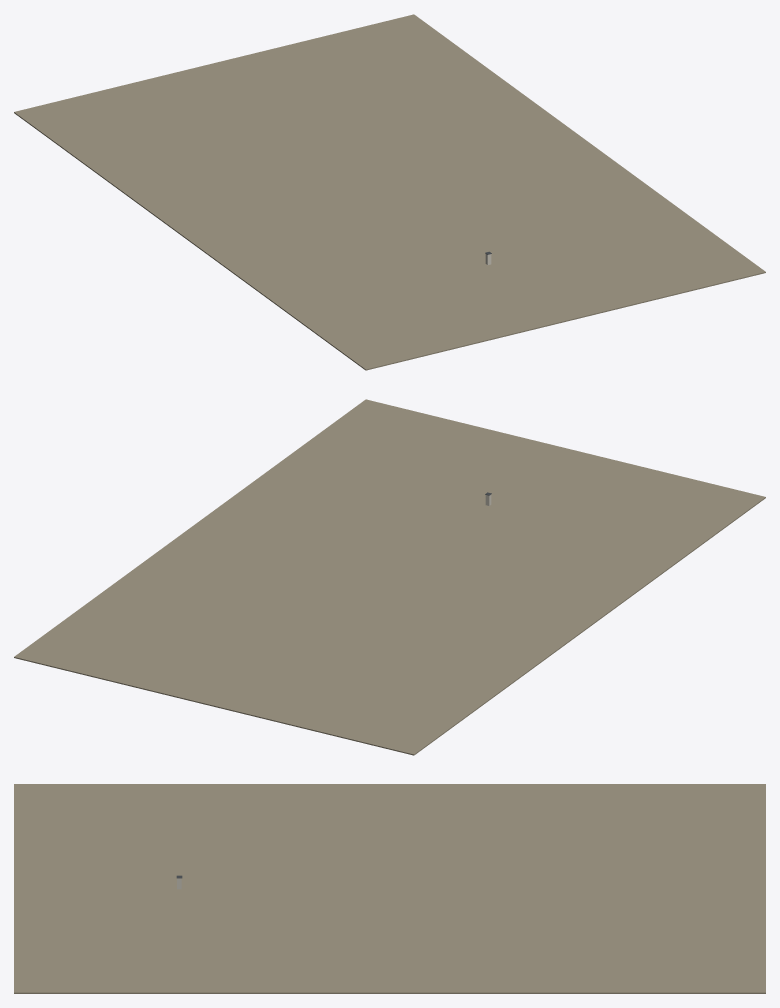
File: fort_dearborn_parade__parade_1816.glb
3 renders of one model, top to bottom at view 1: azimuth 30°, elevation 25°; view 2: azimuth 150°, elevation 25°; view 3: azimuth 270°, elevation 25°, orthographic. The views are drawn at different scales.
Parts seen in each view (by area): view 1: fort_dearborn_parade__parade_1816; view 2: fort_dearborn_parade__parade_1816; view 3: fort_dearborn_parade__parade_1816.
Boxes of the visible parts, <box> form: fort_dearborn_parade__parade_1816: <box>14,14,765,370</box>; fort_dearborn_parade__parade_1816: <box>14,399,765,755</box>; fort_dearborn_parade__parade_1816: <box>14,784,765,993</box>.
Bounding box in the file's own units: 21.8 × 0.6282 × 33.2.
